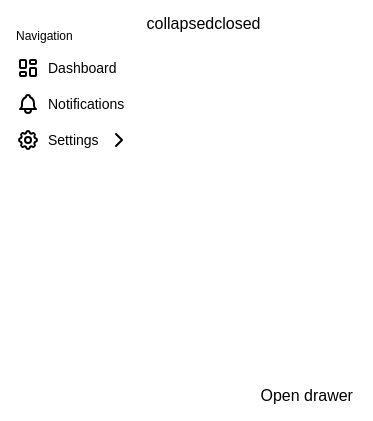
NavMain › expands a collapsed sidebar when a group is toggled, so its sub-links can be reached
This screenshot has width=373, height=421.
Expected: the text named "Sidebar state" reads "collapsed", [147,15,214,32]
Click the button "Settings" at (73, 140), box [8,124,139,156]
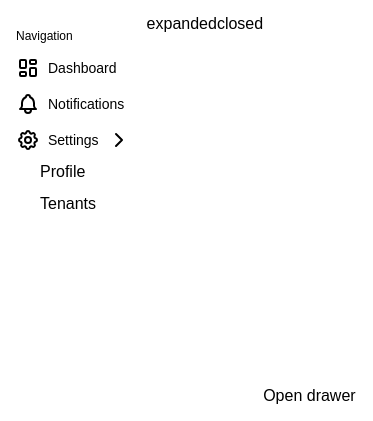
Expected: the text named "Sidebar state" reads "expanded", [147,15,217,32]
Expected: the link "Profile" is shown, [40,163,85,180]
